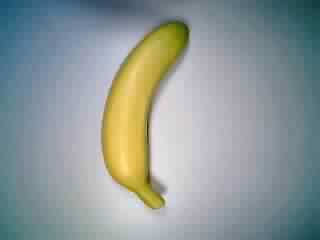banana: (92, 18, 195, 218)
